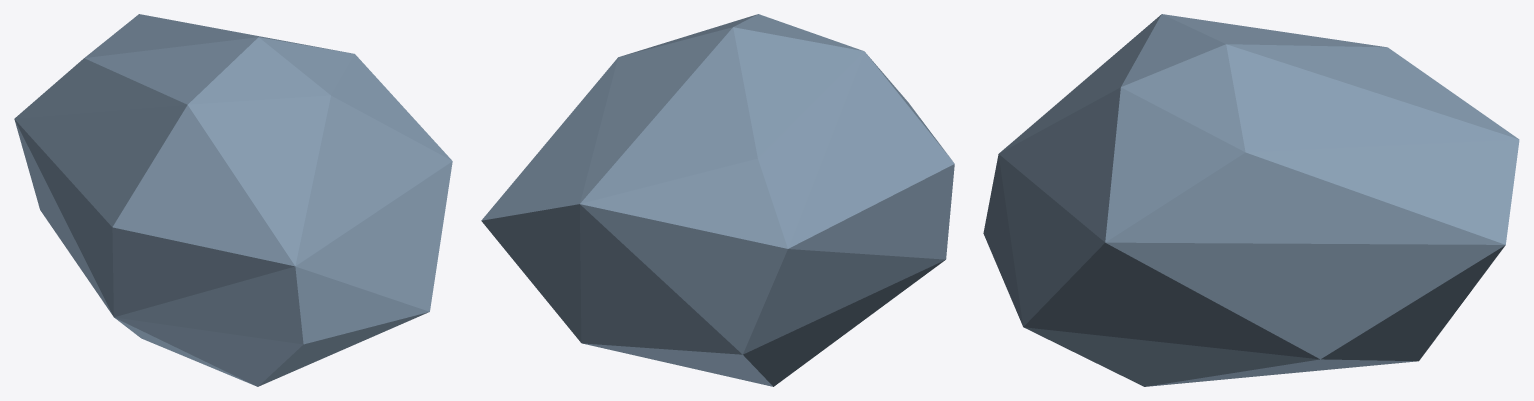
The model's file is Rock_6.fbx.
3 renders of one model, left to right at view 1: azimuth 30°, elevation 25°; view 2: azimuth 150°, elevation 25°; view 3: azimuth 270°, elevation 25°, orthographic. The views are drawn at different scales.
Visible parts, largest first — view 1: M_Rock 6; view 2: M_Rock 6; view 3: M_Rock 6.
Part boxes in pixels (left/top/right/bottom): M_Rock 6: left=14, top=14, right=452, bottom=386; M_Rock 6: left=481, top=14, right=954, bottom=386; M_Rock 6: left=983, top=14, right=1519, bottom=386.
Bounding box in the file's own units: 0.367 × 0.3466 × 0.4916.
1 material, 1 textured.
